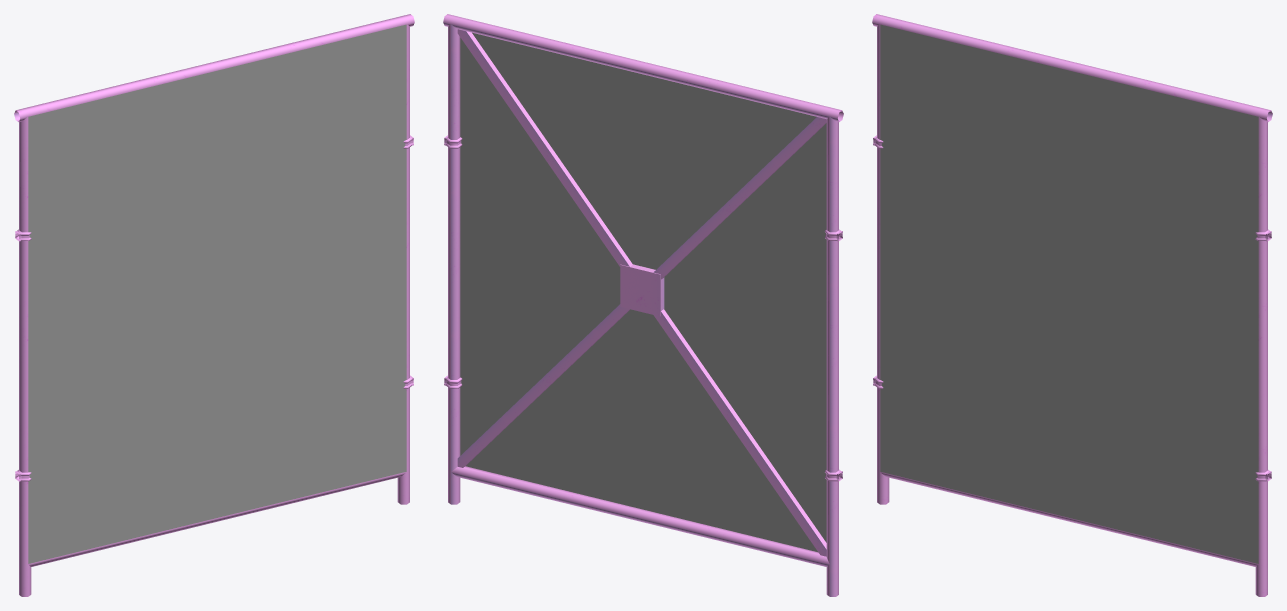
Rendered from FenceLarge_01_SM_Low.fbx.
3 views of the same model, side by side, from view 1: azimuth 30°, elevation 25°; view 2: azimuth 150°, elevation 25°; view 3: azimuth 330°, elevation 25° (orthographic).
Visible parts, largest first — view 1: Fence_Large_Geo; view 2: Fence_Large_Geo; view 3: Fence_Large_Geo.
Part boxes in pixels (bbox=[...]): Fence_Large_Geo: bbox=[14, 14, 414, 596]; Fence_Large_Geo: bbox=[443, 14, 843, 596]; Fence_Large_Geo: bbox=[872, 14, 1272, 596].
Size of the model in its own units: 325 by 382 by 11.66.
